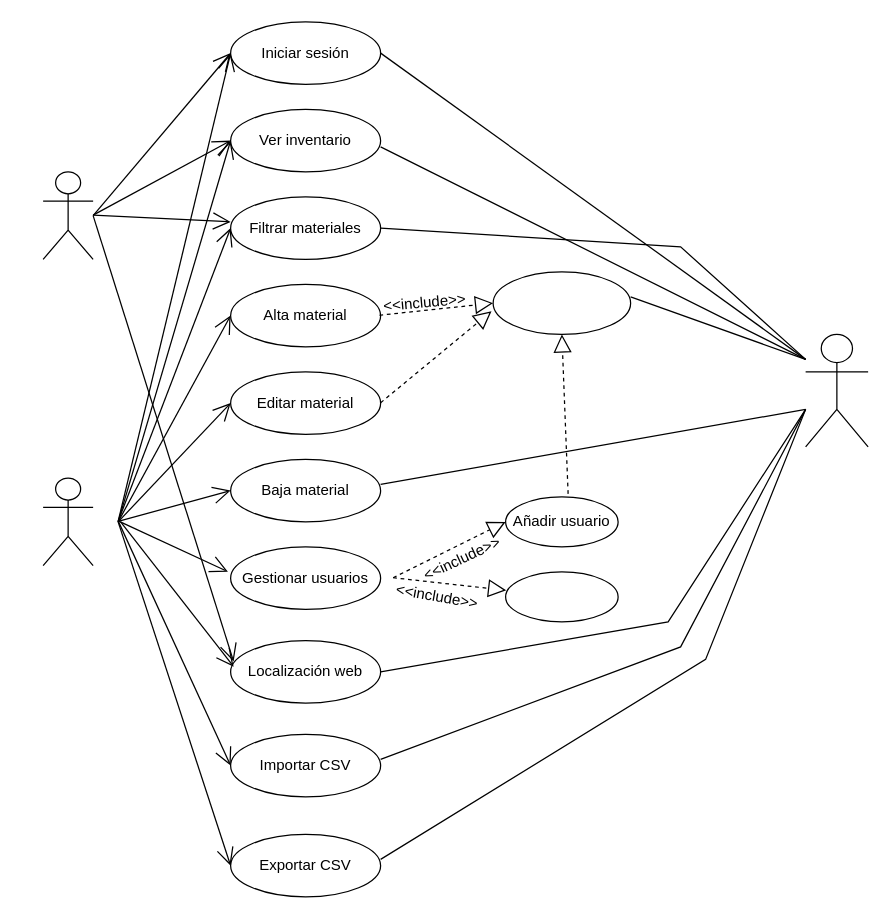
Some shapes in this 890 by 919 pixel diagram are drawn without their labels. The centre of each missing label's shape, as x and y in pixels:
"Administrador" belongs at pixel 67 521.
"BD" belongs at pixel 836 390.
"Eliminar usuario" belongs at pixel 561 596.
"Profesor" belongs at pixel 67 215.
"Validar campos" belongs at pixel 561 302.
